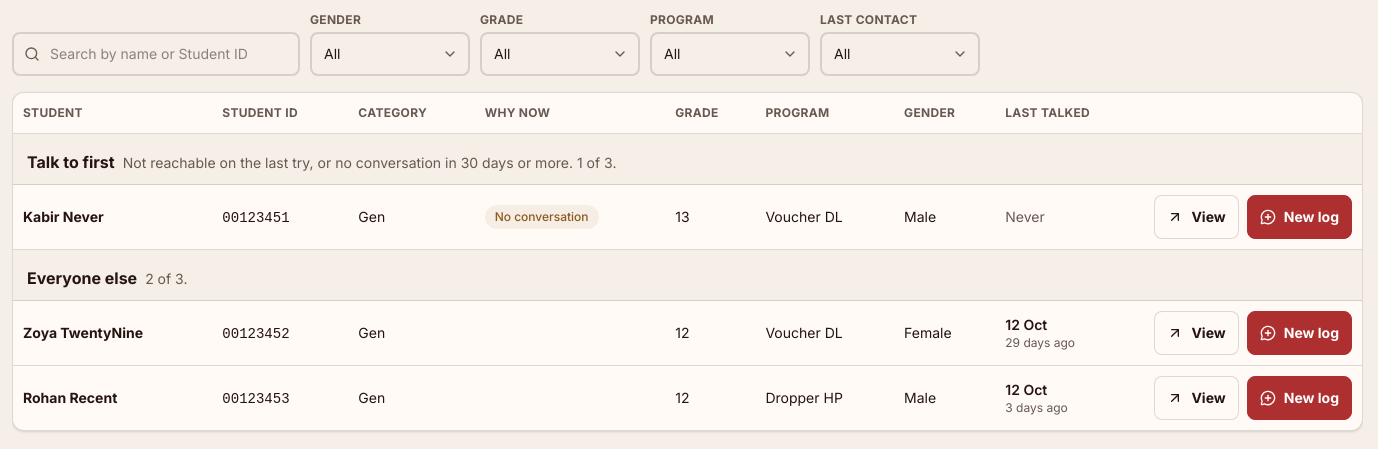
Scenario: FilteredMenteeList › counts each group out of the filtered total
Expected: the table "Everyone else" shows "2 of 3.", [145,270,188,287]
Select "Male" in the dropdown labelled "Gender" at [390, 54], box [310,32,470,76]
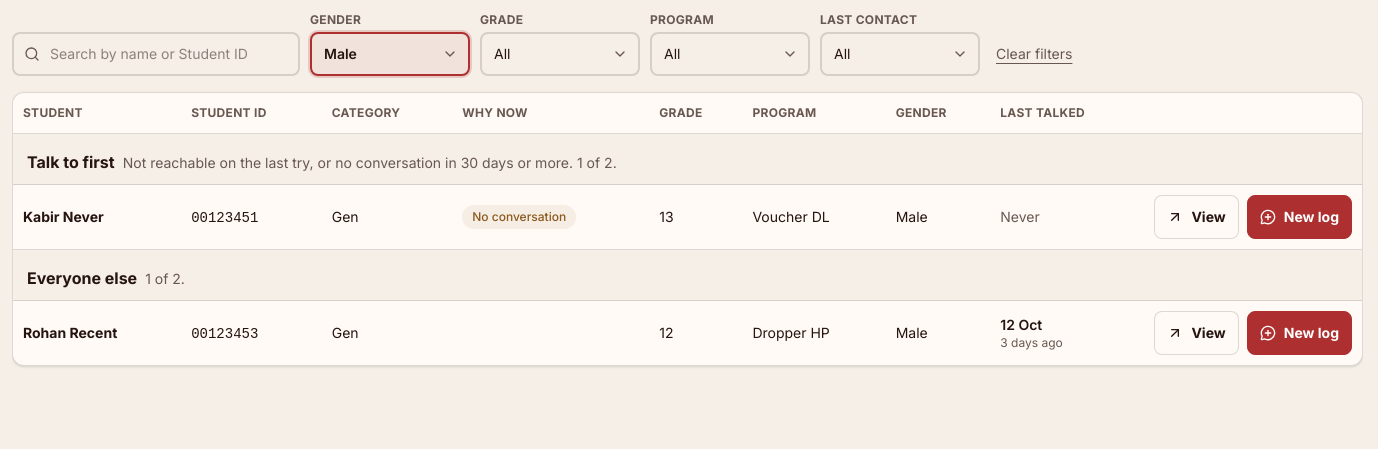
Result: the table "Talk to first" shows "1 of 2." at [123,154,617,171]
Result: the table "Everyone else" shows "1 of 2." at [145,270,185,287]
